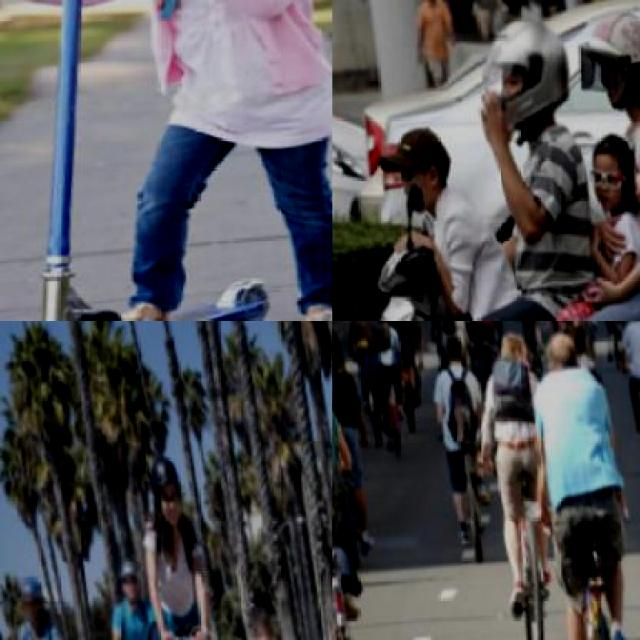With Helmet: (474, 2, 580, 146), (570, 0, 638, 117), (141, 451, 187, 532), (112, 551, 143, 607), (17, 574, 45, 624)
Without Helmet: (540, 320, 588, 382), (488, 320, 535, 380), (436, 321, 466, 370), (248, 603, 275, 639)
